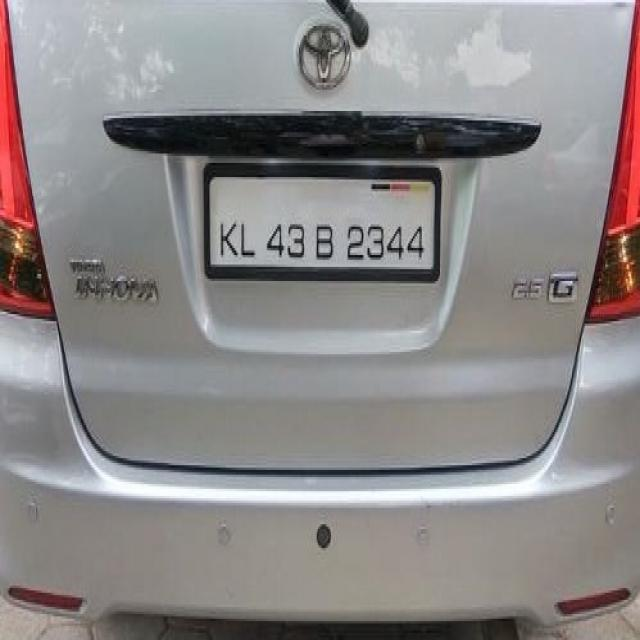Plate: (208, 169, 437, 273)
